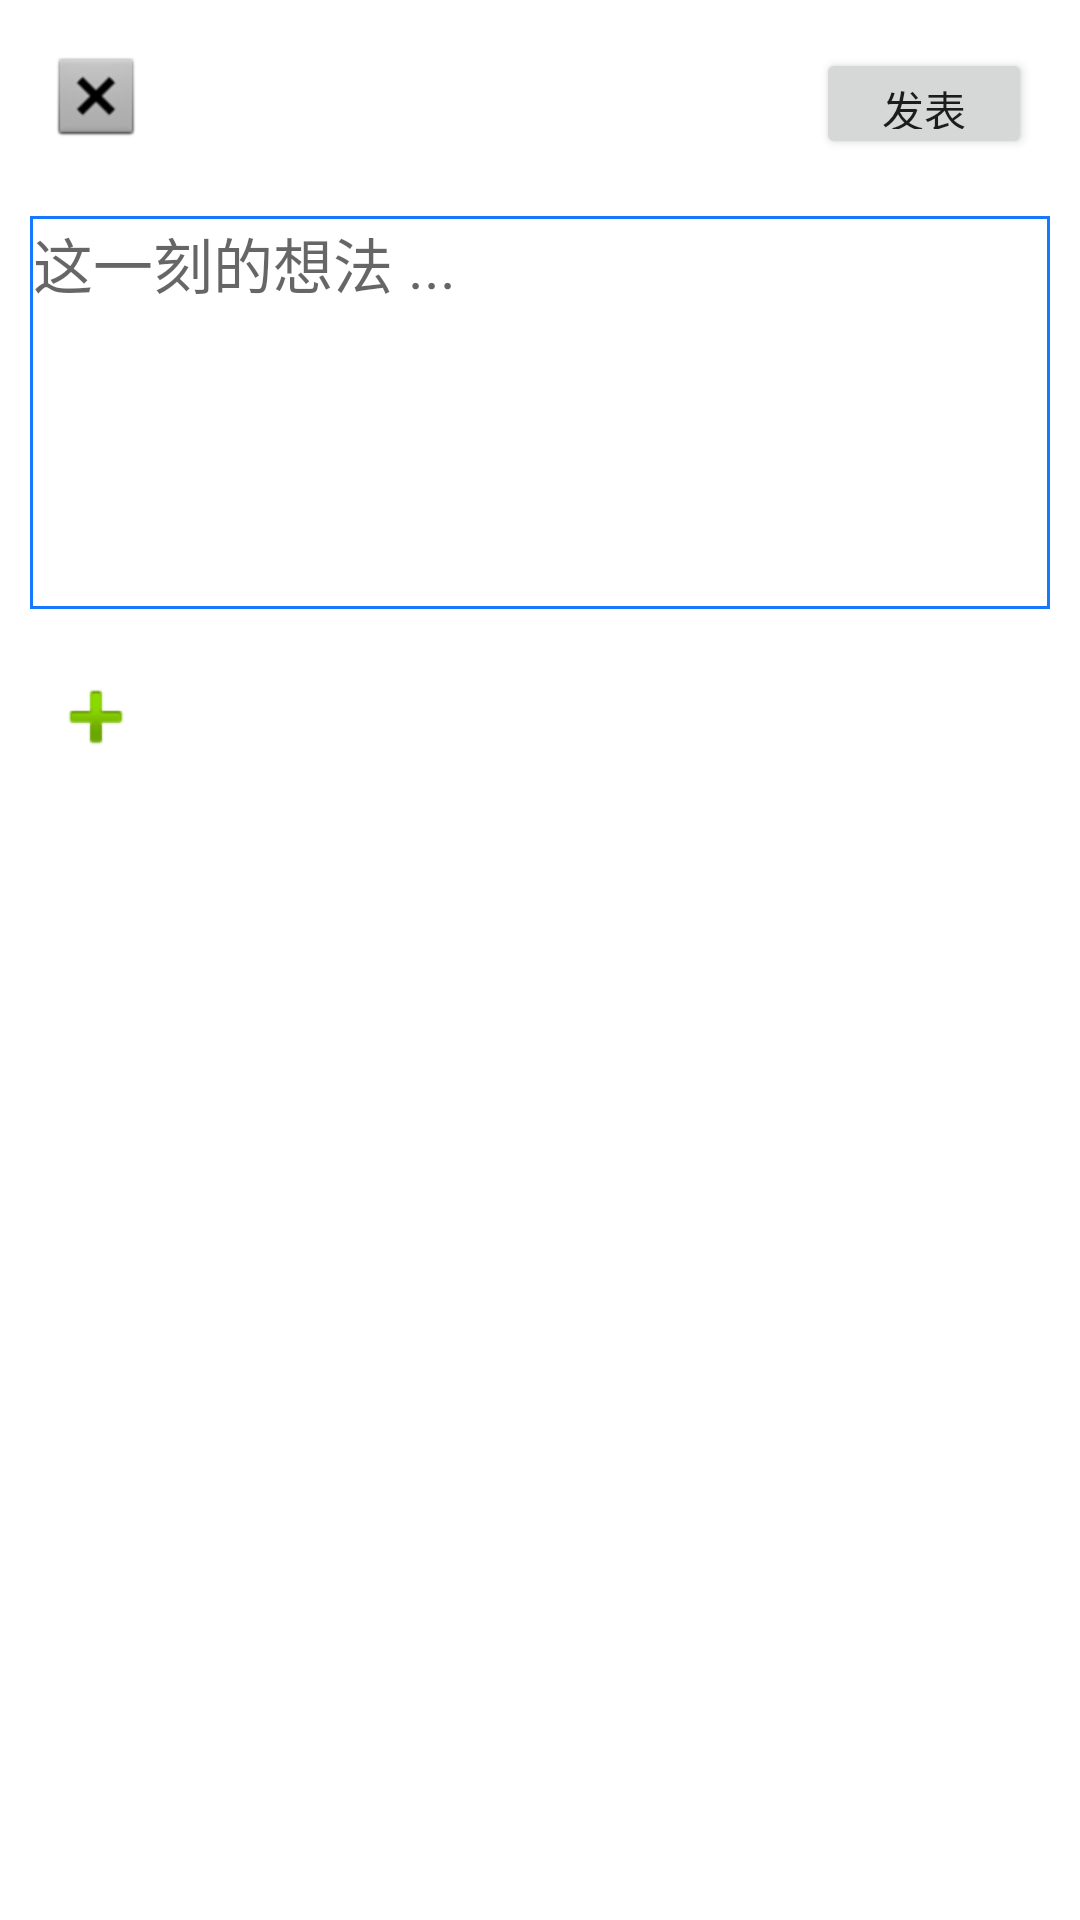

Locate icon controls on the screen. Image size 1080 x 1920, boxes as rect(x1, y1, x2, y2).
add: rect(69, 690, 123, 744)
